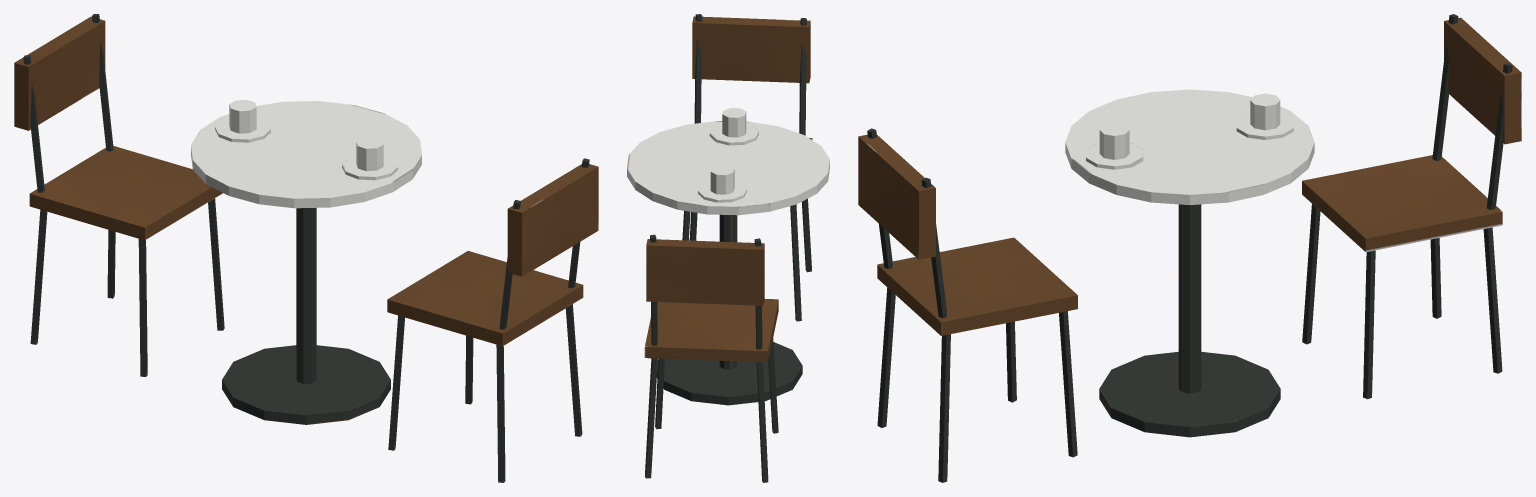
Rendered from stolek_kavarna_3d216658.glb.
3 renders of one model, left to right at view 1: azimuth 30°, elevation 25°; view 2: azimuth 150°, elevation 25°; view 3: azimuth 270°, elevation 25°, orthographic. The views are drawn at different scales.
Parts seen in each view (by area): view 1: dum; view 2: dum; view 3: dum.
Boxes of the visible parts, x1,y1,x2,y2 form: dum: (14, 14, 598, 482); dum: (627, 14, 829, 482); dum: (858, 14, 1521, 482).
Size of the model in its own units: 1.09 by 0.8798 by 1.75.
Materials: 1 (1 with a texture image).
